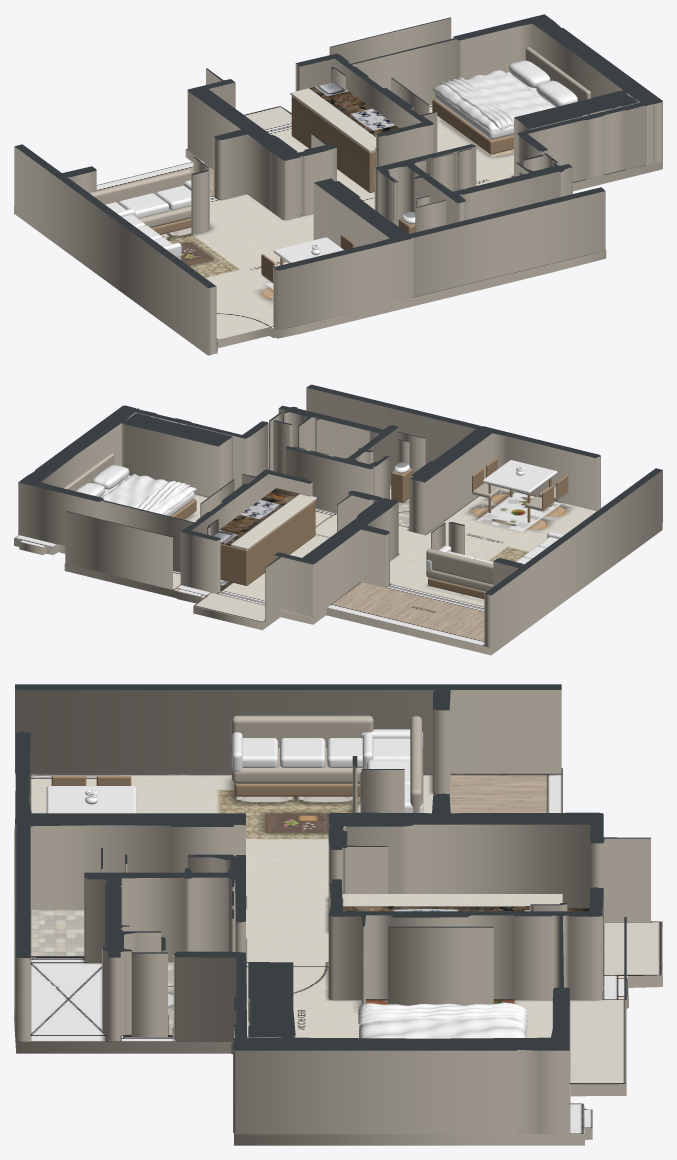
3 renders of one model, top to bottom at view 1: azimuth 30°, elevation 25°; view 2: azimuth 150°, elevation 25°; view 3: azimuth 270°, elevation 25°, orthographic. The views are drawn at different scales.
Visible parts, largest first — view 1: Partition walls, Apartment floor, Stone worktop, Kitchen cabinets, Draped bed linen, Sofa back, Draped bed linen.001, Walnut upholstered base, Upholstered headboard, Marble dining top, Seat cushion.001, Piped mattress (+4 smaller); view 2: Partition walls, Apartment floor, Kitchen cabinets, Stone worktop, Draped bed linen, Marble dining top, Sofa back, Draped bed linen.001, Upholstered sofa frame, Upholstered headboard, Vanity cabinet, Tailored pillow (+1 smaller); view 3: Partition walls, Apartment floor, Stone worktop, Sofa back.001, Draped bed linen, Draped bed linen.001, Marble dining top, Upholstered sofa frame.001, Sofa plinth.001, Seat cushion.004, Sofa back, Seat cushion.003 (+2 smaller).
Part boxes in pixels (x1,y1,x2,y2): Partition walls: (14, 14, 662, 347); Apartment floor: (14, 104, 662, 355); Stone worktop: (290, 82, 398, 152); Kitchen cabinets: (291, 96, 376, 192); Draped bed linen: (431, 70, 554, 131); Sofa back: (89, 169, 191, 204); Draped bed linen.001: (439, 77, 514, 129); Walnut upholstered base: (432, 98, 513, 154); Upholstered headboard: (525, 47, 590, 101); Marble dining top: (273, 237, 343, 263); Seat cushion.001: (119, 193, 169, 218); Piped mattress: (435, 72, 555, 139); Partition walls: (18, 384, 662, 647); Apartment floor: (14, 467, 662, 655); Kitchen cabinets: (220, 500, 315, 585); Stone worktop: (213, 488, 316, 549); Draped bed linen: (101, 473, 197, 514); Marble dining top: (483, 460, 557, 493); Sofa back: (426, 548, 493, 584); Draped bed linen.001: (132, 481, 190, 511); Upholstered sofa frame: (426, 569, 493, 591); Upholstered headboard: (63, 453, 114, 491); Vanity cabinet: (391, 468, 412, 502); Tailored pillow: (92, 465, 129, 489); Partition walls: (15, 684, 650, 1134); Apartment floor: (14, 768, 662, 1145); Stone worktop: (342, 894, 562, 911); Sofa back.001: (231, 715, 373, 747); Draped bed linen: (359, 1003, 526, 1038); Draped bed linen.001: (358, 1003, 527, 1027); Marble dining top: (46, 786, 136, 813); Upholstered sofa frame.001: (231, 747, 362, 783); Sofa plinth.001: (234, 783, 360, 796); Seat cushion.004: (280, 738, 325, 767); Sofa back: (410, 716, 422, 812); Seat cushion.003: (242, 738, 278, 767).
Size of the model in its own units: 10.72 by 1.3 by 8.02.
10 materials, 1 textured.
